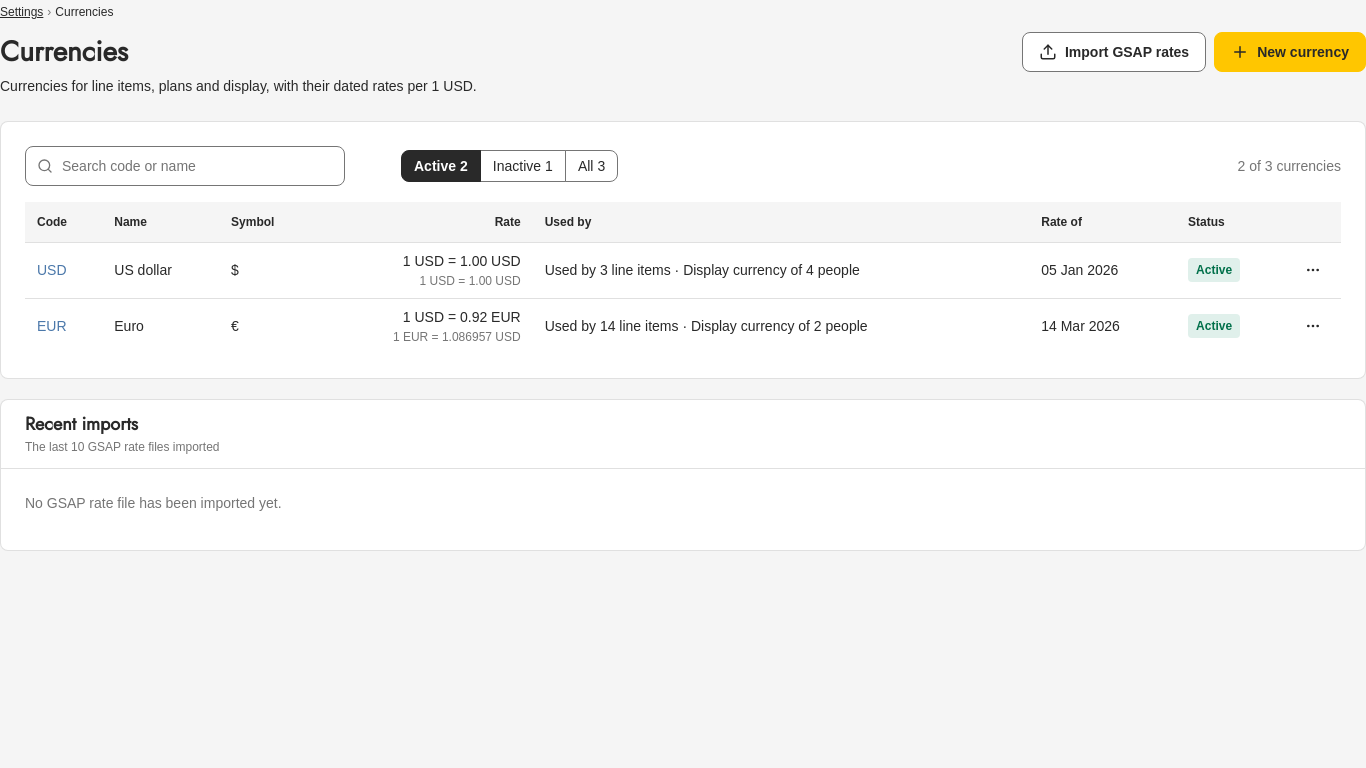
Test: CurrenciesPage: create and edit (US4 scenarios 1, 3, 4, 5) › shows every problem at once (scenario 5)
Click the button "New currency": (1290, 52) [1214,32,1365,72]
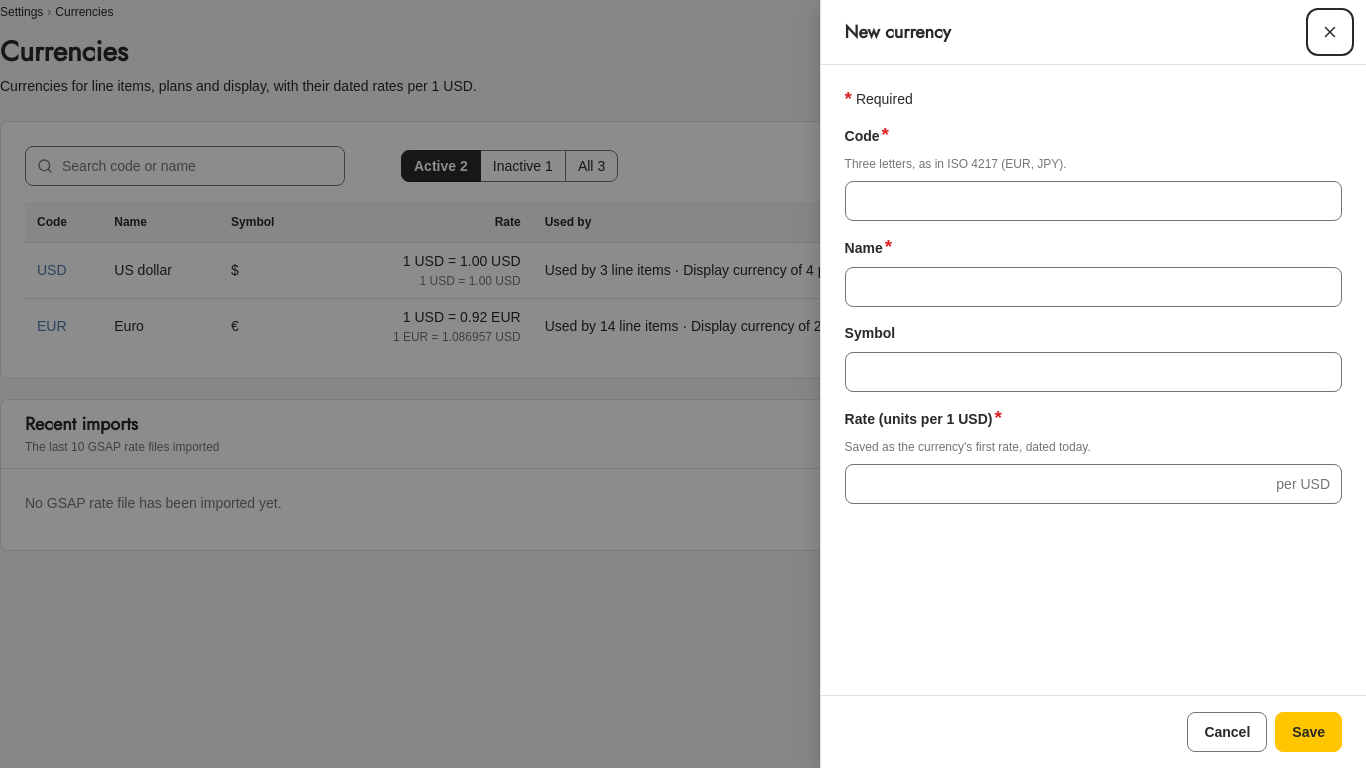
In the field labelled "Code": (1093, 201) [845,181,1342,221], type "EURO"
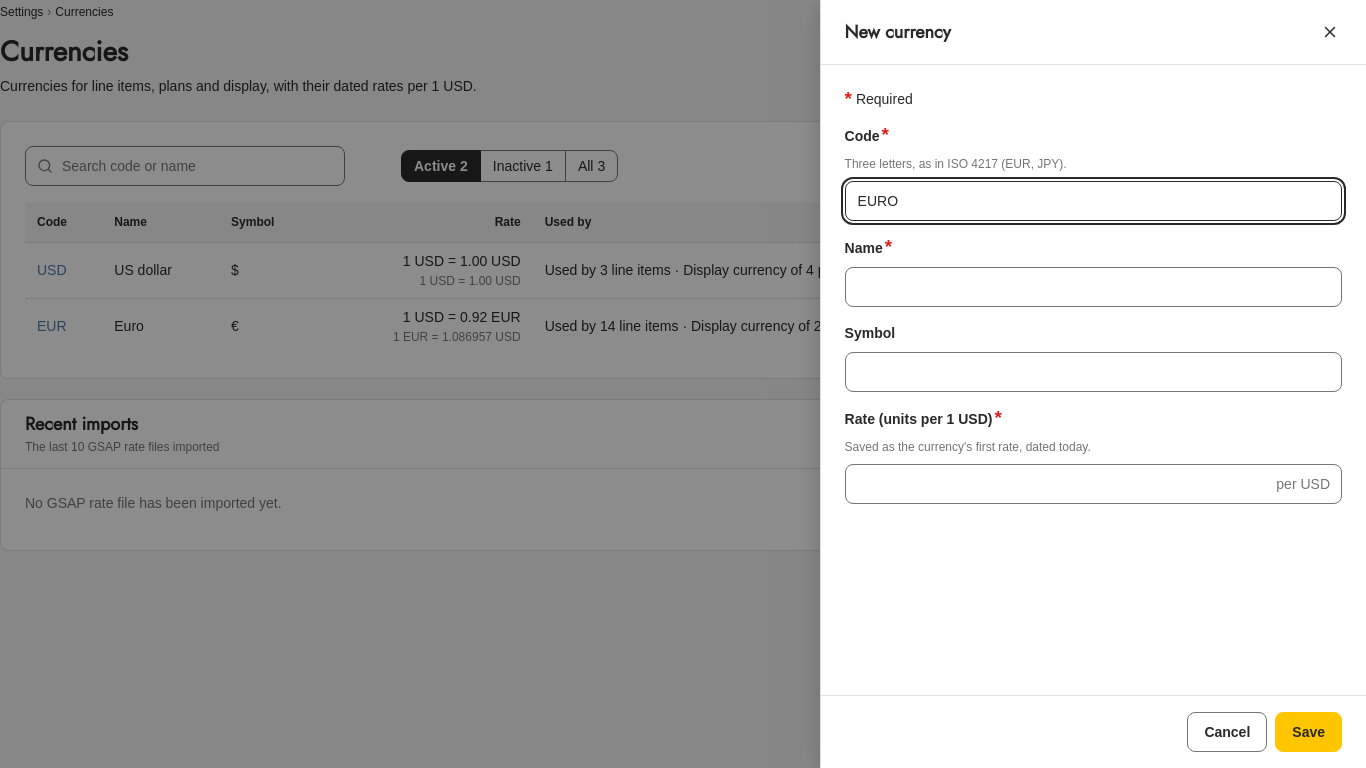
In the field labelled "Name": (1093, 287) [845,267,1342,307], type "Euro"
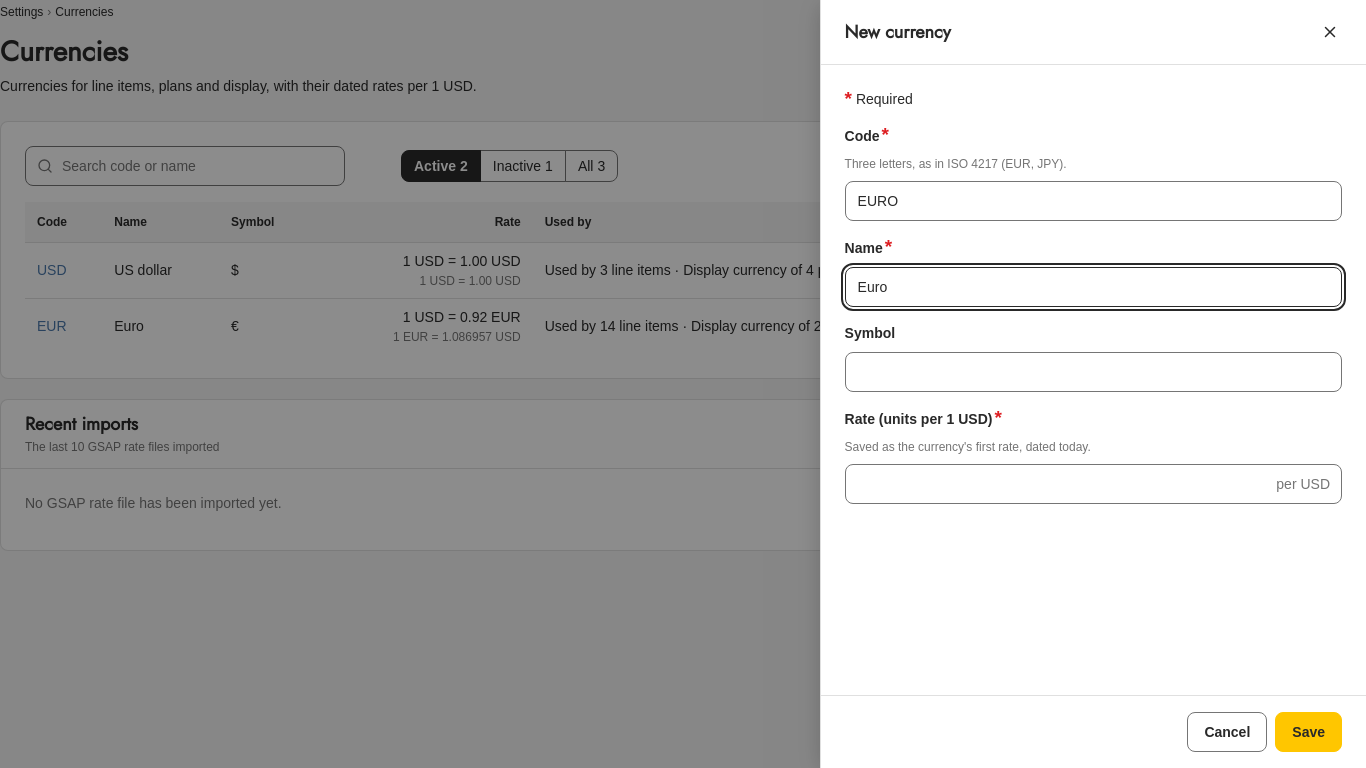
In the field labelled "Rate (units per 1 USD)": (1093, 484) [845,464,1342,504], type "0"
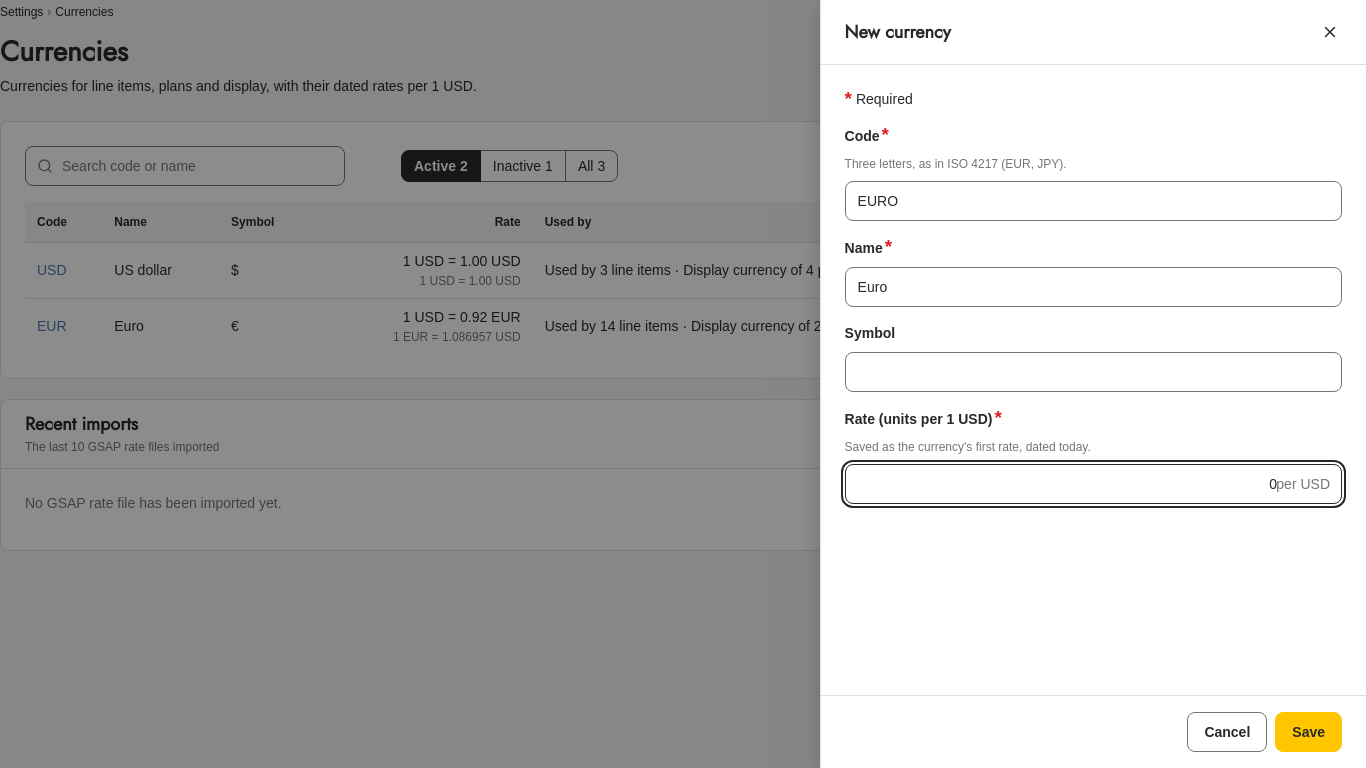
Click the button "Save": (1309, 732) [1275,712,1342,752]
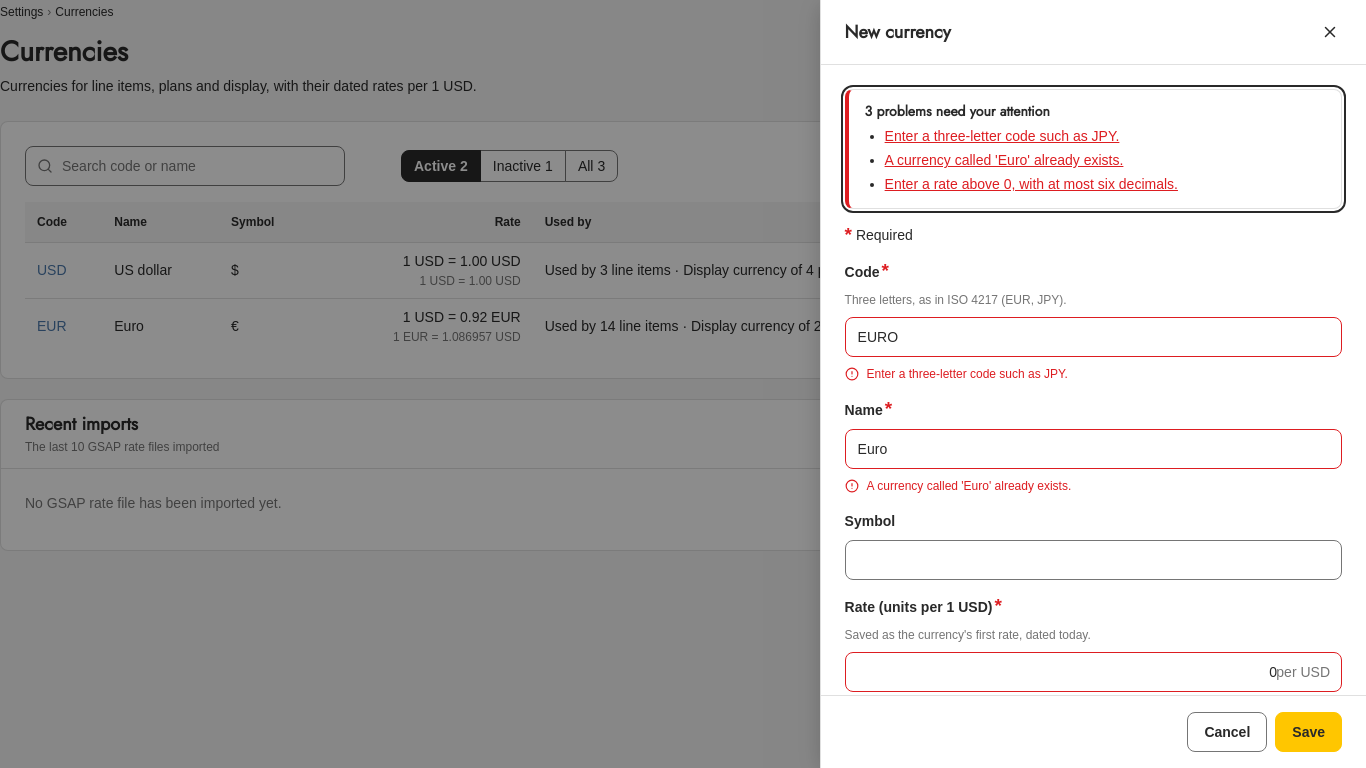
Expected: the heading "3 problems need your attention" is shown, [865,101,1050,121]
